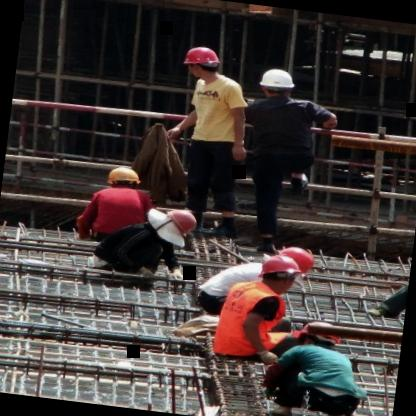helmet: (289, 316, 342, 350), (256, 252, 301, 292), (254, 64, 297, 102), (274, 243, 316, 279), (180, 43, 220, 80), (162, 208, 200, 236), (105, 162, 141, 190)
